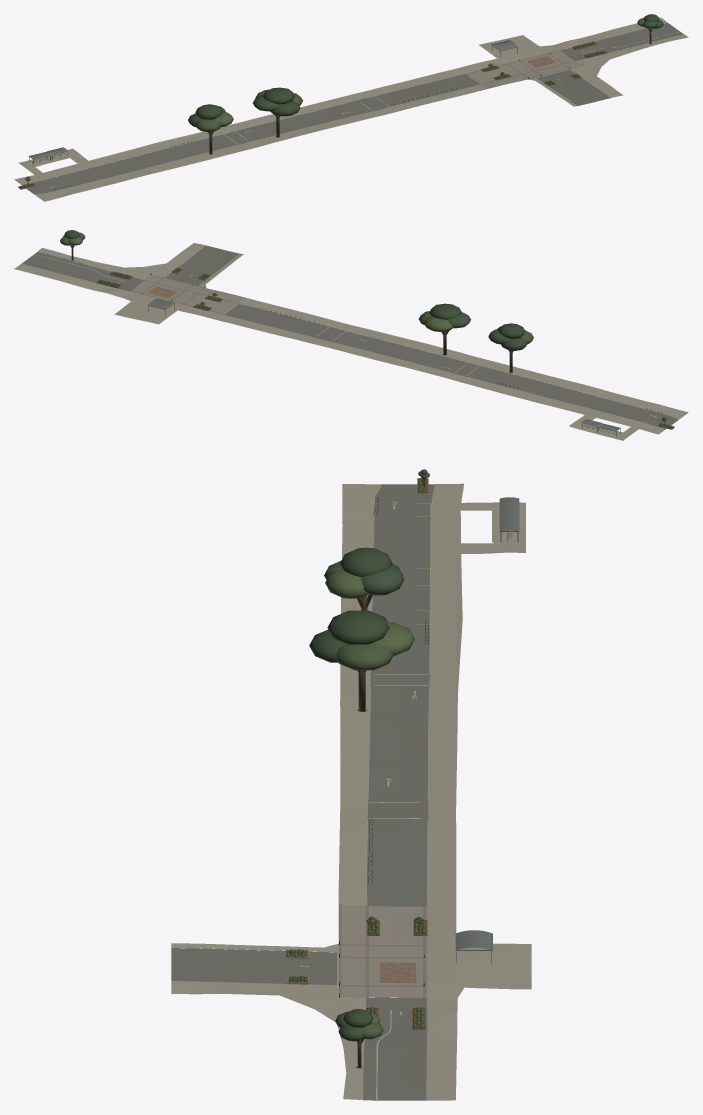
File: site.glb
3 views of the same model, one above another, from view 1: azimuth 30°, elevation 25°; view 2: azimuth 150°, elevation 25°; view 3: azimuth 270°, elevation 25° (orthographic). The views are drawn at different scales.
Parts seen in each view (by area): view 1: east-thirteenth-central-paving, east-thirteenth-central-planting, east-thirteenth-central-markings, east-thirteenth-central-furnishings; view 2: east-thirteenth-central-paving, east-thirteenth-central-planting, east-thirteenth-central-markings, east-thirteenth-central-furnishings; view 3: east-thirteenth-central-paving, east-thirteenth-central-planting, east-thirteenth-central-markings, east-thirteenth-central-furnishings.
Part boxes in pixels (x1,y1,x2,y2): east-thirteenth-central-paving: (14, 17, 688, 201); east-thirteenth-central-planting: (20, 14, 663, 187); east-thirteenth-central-markings: (22, 32, 683, 194); east-thirteenth-central-furnishings: (18, 40, 606, 190); east-thirteenth-central-paving: (14, 243, 688, 440); east-thirteenth-central-planting: (60, 230, 673, 427); east-thirteenth-central-markings: (35, 251, 678, 429); east-thirteenth-central-furnishings: (96, 267, 674, 436); east-thirteenth-central-paving: (171, 483, 531, 1100); east-thirteenth-central-planting: (286, 469, 429, 1067); east-thirteenth-central-markings: (300, 484, 435, 1099); east-thirteenth-central-furnishings: (285, 478, 519, 1029).
Size of the model in its own units: 260 by 19.46 by 62.5.
